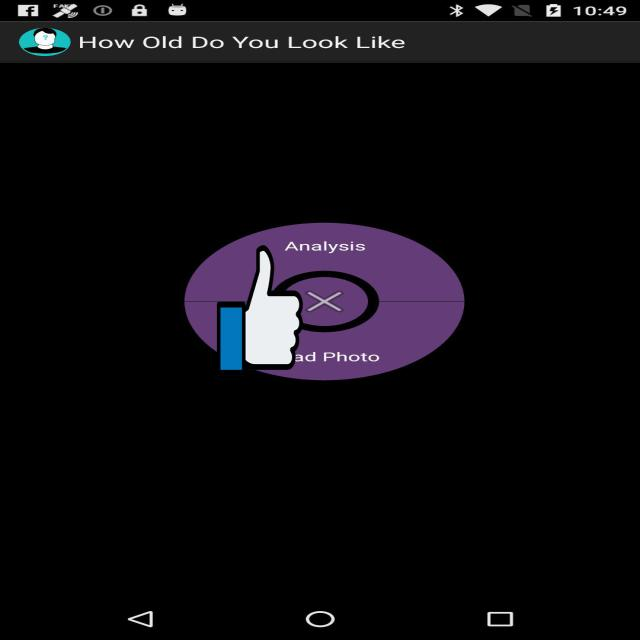privacy zuckering: (217, 242, 303, 378)
